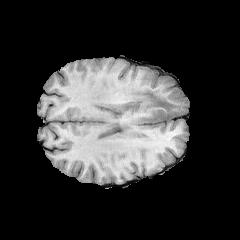glioma: (120, 84, 188, 137)
